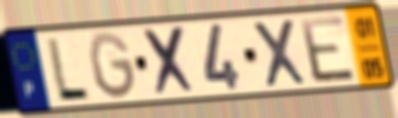4: (202, 21, 246, 94)
E: (296, 13, 359, 86)
G: (86, 29, 140, 102)
L: (44, 35, 93, 102)
X: (140, 24, 200, 100), (249, 17, 311, 90)
